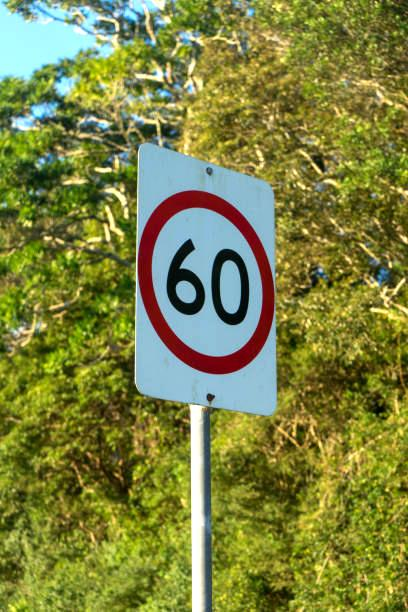Speed Limit -60-: (138, 186, 277, 375)
